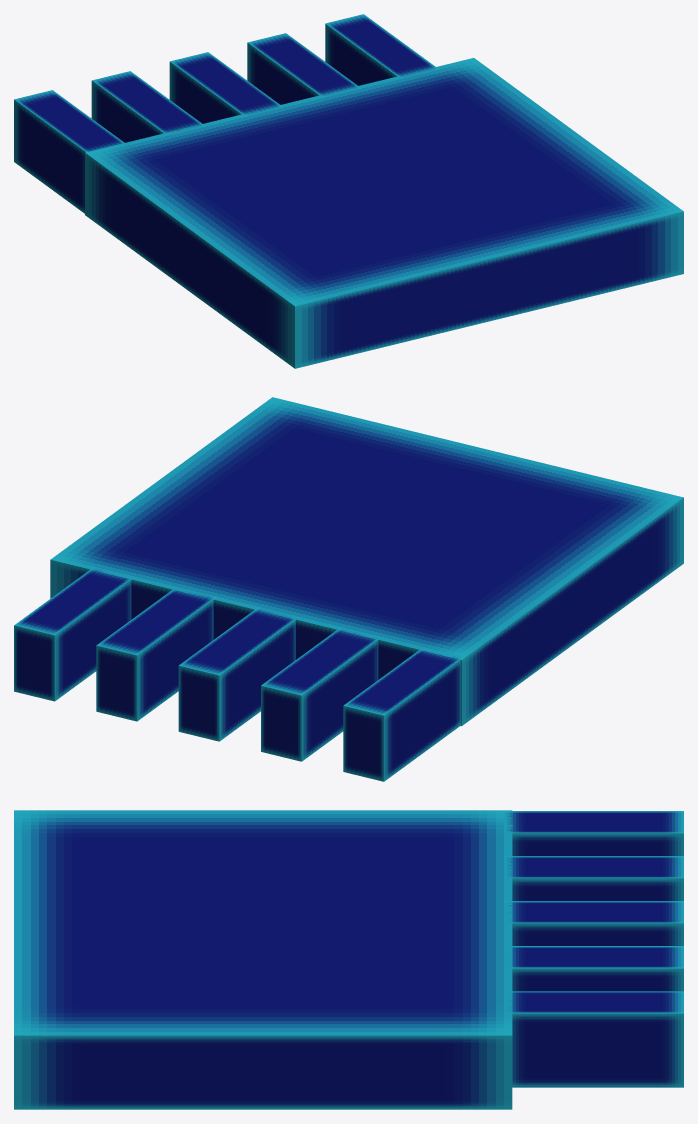
3 views of the same model, one above another, from view 1: azimuth 30°, elevation 25°; view 2: azimuth 150°, elevation 25°; view 3: azimuth 270°, elevation 25° (orthographic). The views are drawn at different scales.
Visible parts, largest first — view 1: mesh_L; view 2: mesh_L; view 3: mesh_L.
Part boxes in pixels (x1,y1,x2,y2): mesh_L: (14,14,683,368); mesh_L: (14,397,683,781); mesh_L: (14,810,683,1109).
Size of the model in its own units: 200 by 30.71 by 251.
Materials: 1 (1 with a texture image).
